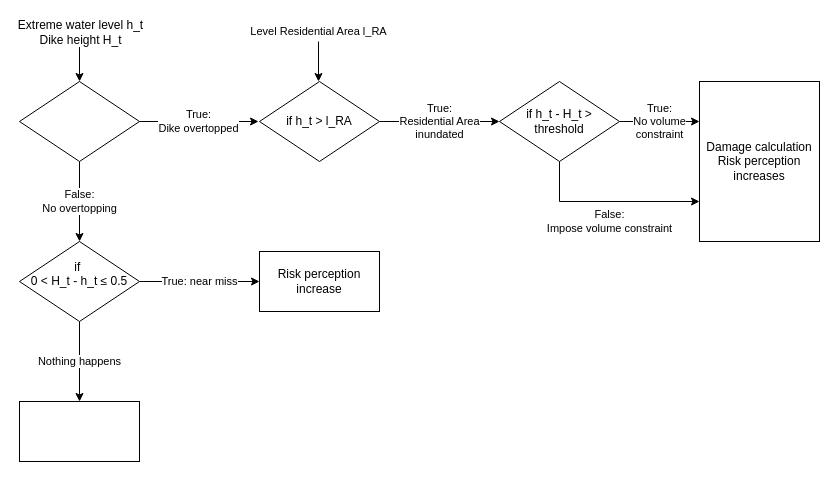
This 837x479 diagram has some shape labels left out. Here are the shapes that lost their labels. From the top down, the centre of each, then its label:
point 79,121: if h_t > H_t
point 79,431: Risk perception decreases
